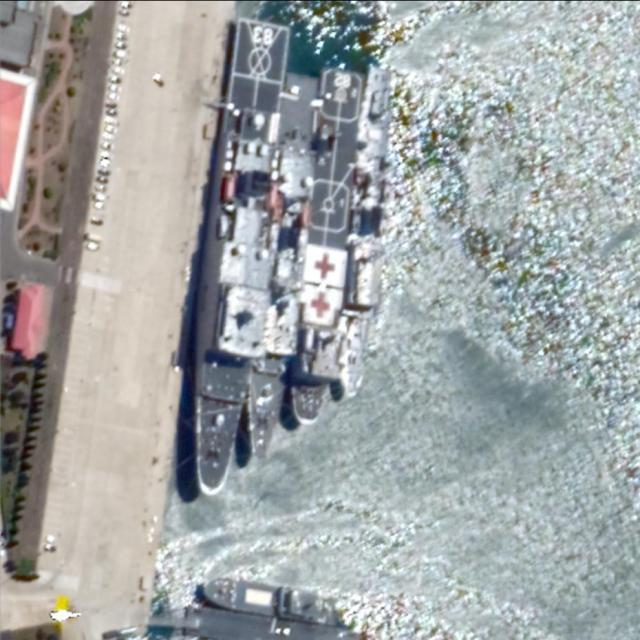Auxiliary Ships: (172, 19, 293, 496), (233, 72, 323, 469), (286, 68, 365, 427), (325, 70, 407, 403)
Landing: (200, 573, 341, 625)
